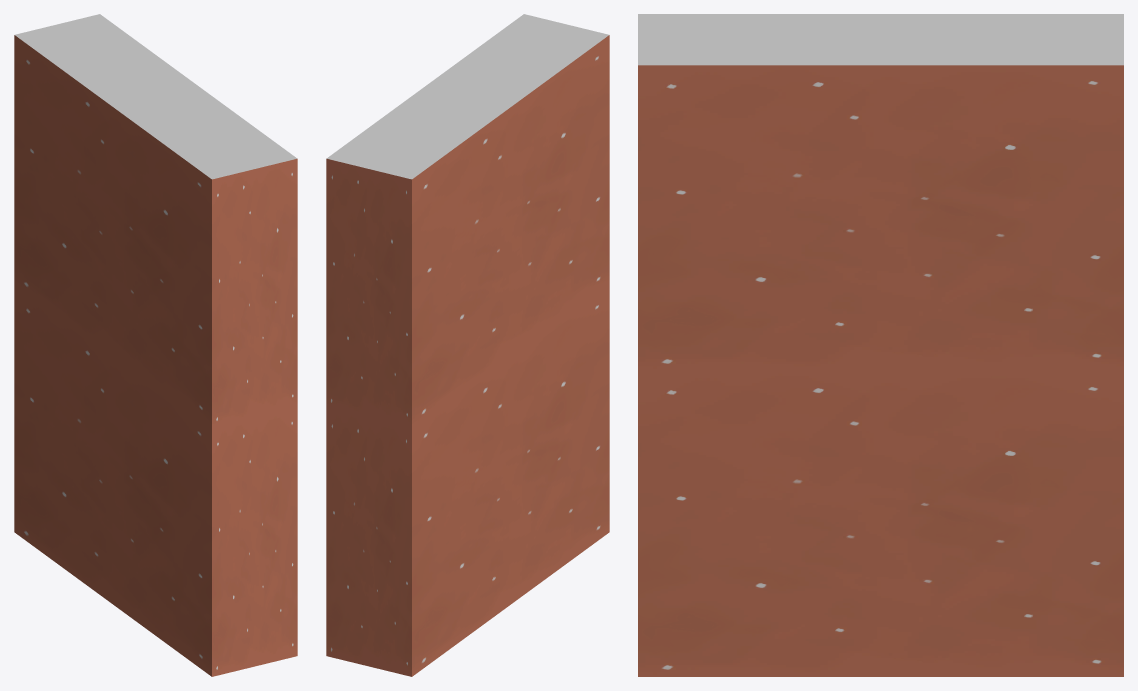
The model's file is WallBlock 211.fbx.
3 renders of one model, left to right at view 1: azimuth 30°, elevation 25°; view 2: azimuth 150°, elevation 25°; view 3: azimuth 270°, elevation 25°, orthographic. The views are drawn at different scales.
Visible parts, largest first — view 1: WallBlock 211; view 2: WallBlock 211; view 3: WallBlock 211.
Part boxes in pixels (x1=…): WallBlock 211: x1=14, y1=14, x2=297, y2=676; WallBlock 211: x1=326, y1=14, x2=609, y2=676; WallBlock 211: x1=638, y1=14, x2=1123, y2=676.
Size of the model in its own units: 0.36 by 2 by 1.44.
